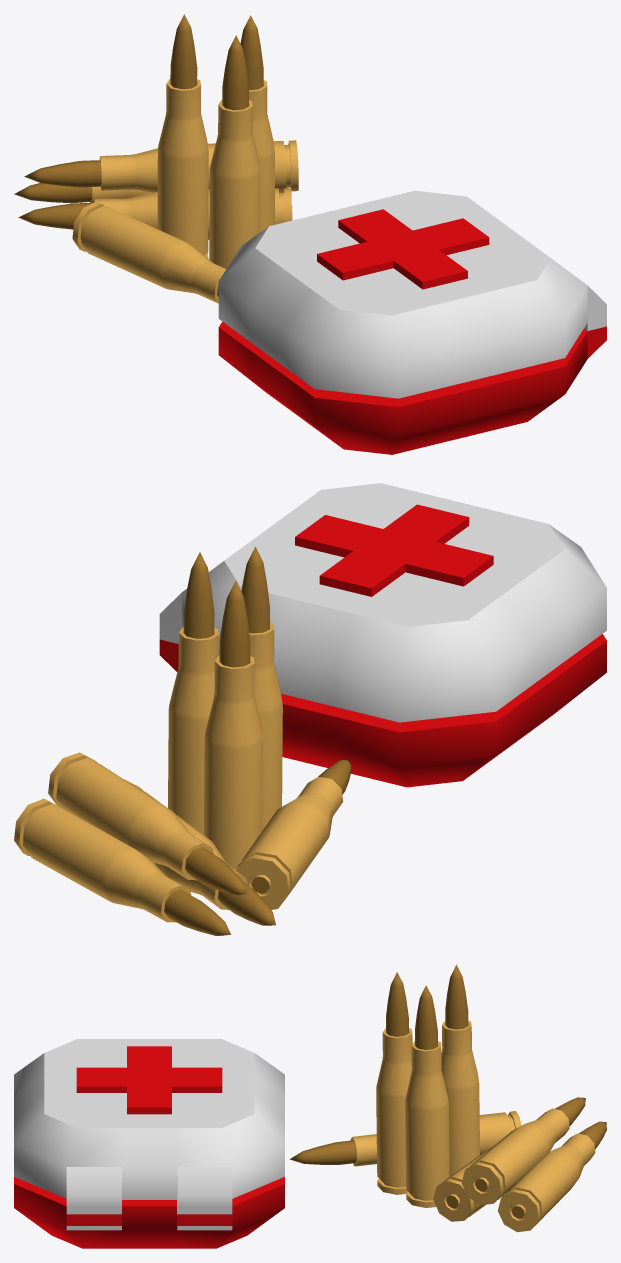
Rendered from pickups.glb.
3 renders of one model, top to bottom at view 1: azimuth 30°, elevation 25°; view 2: azimuth 150°, elevation 25°; view 3: azimuth 270°, elevation 25°, orthographic. The views are drawn at different scales.
Visible parts, largest first — view 1: Cube, Cylinder.004; view 2: Cube, Cylinder.004; view 3: Cube, Cylinder.004.
Boxes of the visible parts, x1,y1,x2,y2 form: Cube: [218, 190, 606, 454]; Cylinder.004: [14, 14, 298, 303]; Cube: [159, 483, 606, 787]; Cylinder.004: [14, 546, 351, 935]; Cube: [14, 1039, 284, 1248]; Cylinder.004: [289, 965, 606, 1232].
Bounding box in the file's own units: 2.18 × 1.84 × 4.37.
